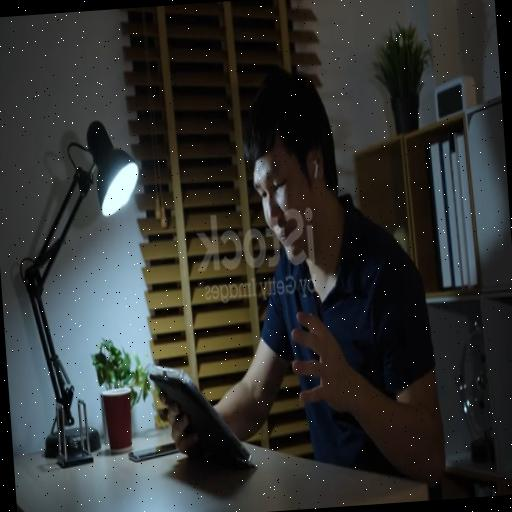earphone: (309, 157, 319, 180)
